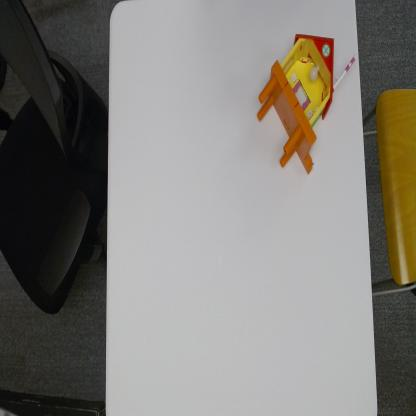House: (258, 29, 356, 179)
